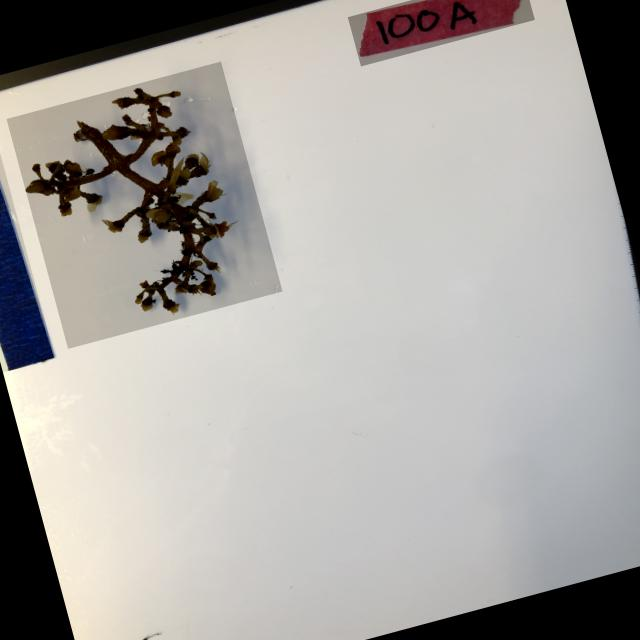index: (347, 0, 534, 66)
measure_label: (0, 112, 55, 371)
rachis_cluster: (6, 61, 282, 348)
